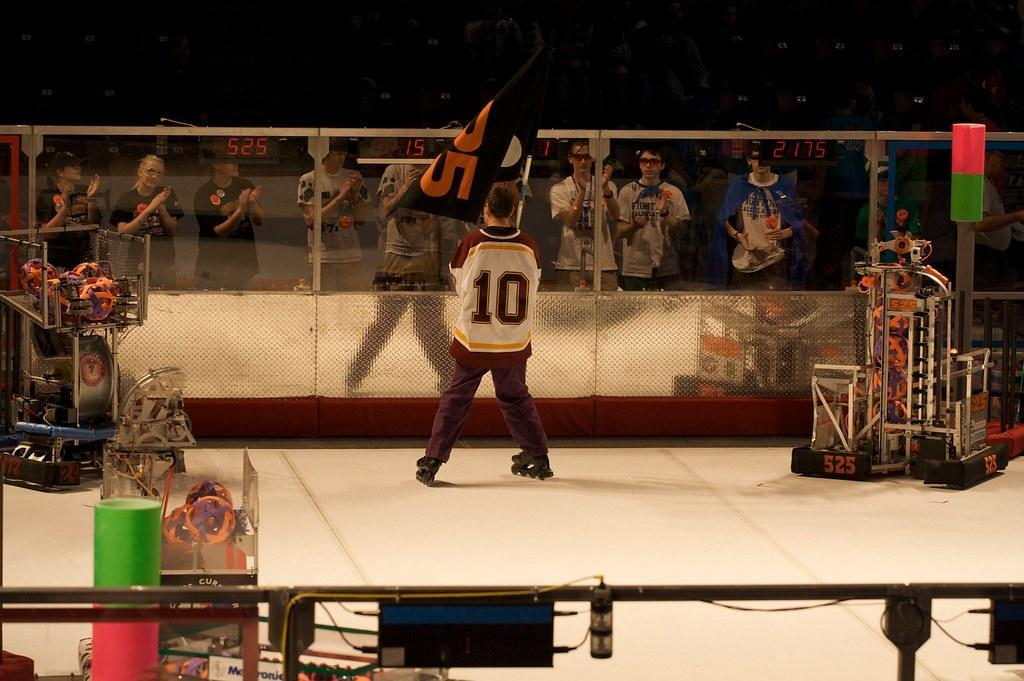robot: (789, 200, 1010, 490), (0, 215, 205, 500)
